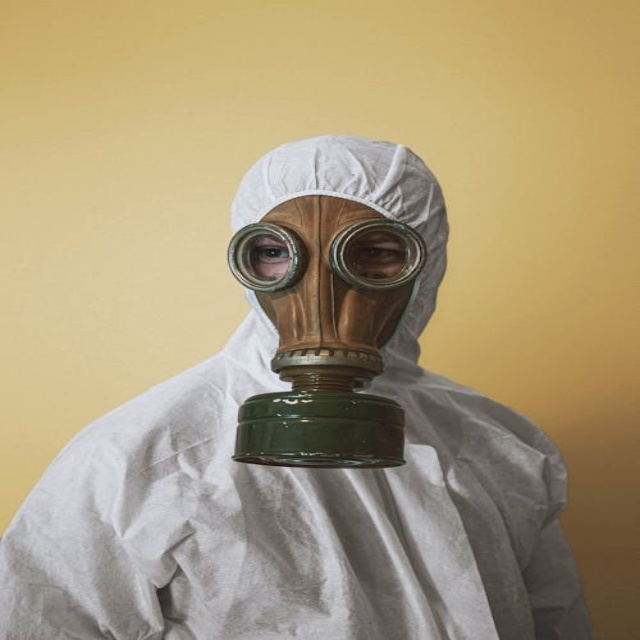Mascara: (214, 184, 444, 486)
